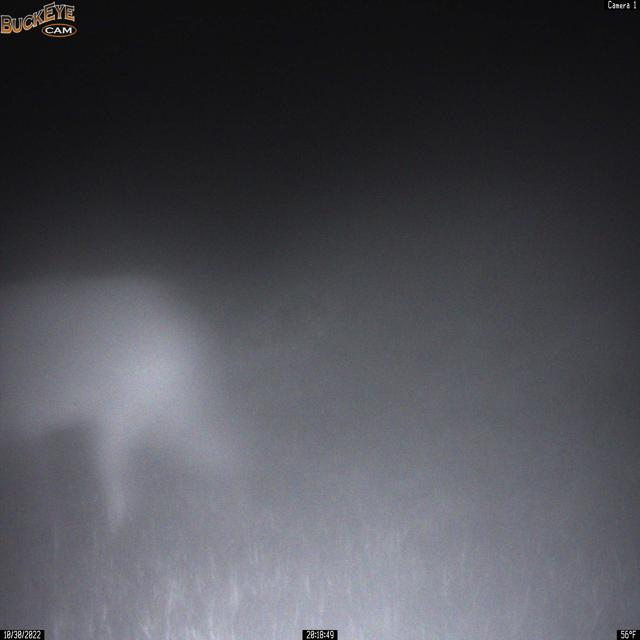coyote: (0, 270, 252, 545)
